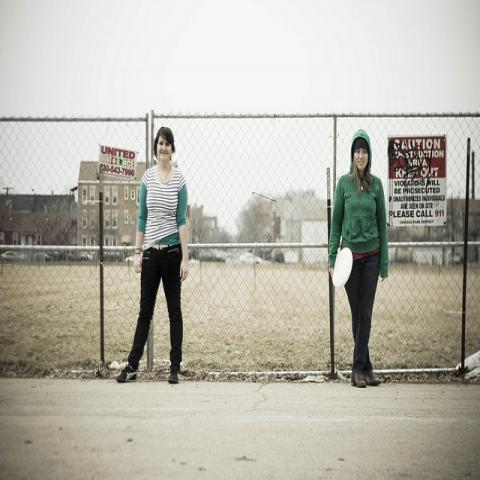car: (199, 248, 226, 262), (236, 252, 262, 265), (62, 250, 88, 262), (0, 250, 24, 262), (35, 252, 51, 263)
